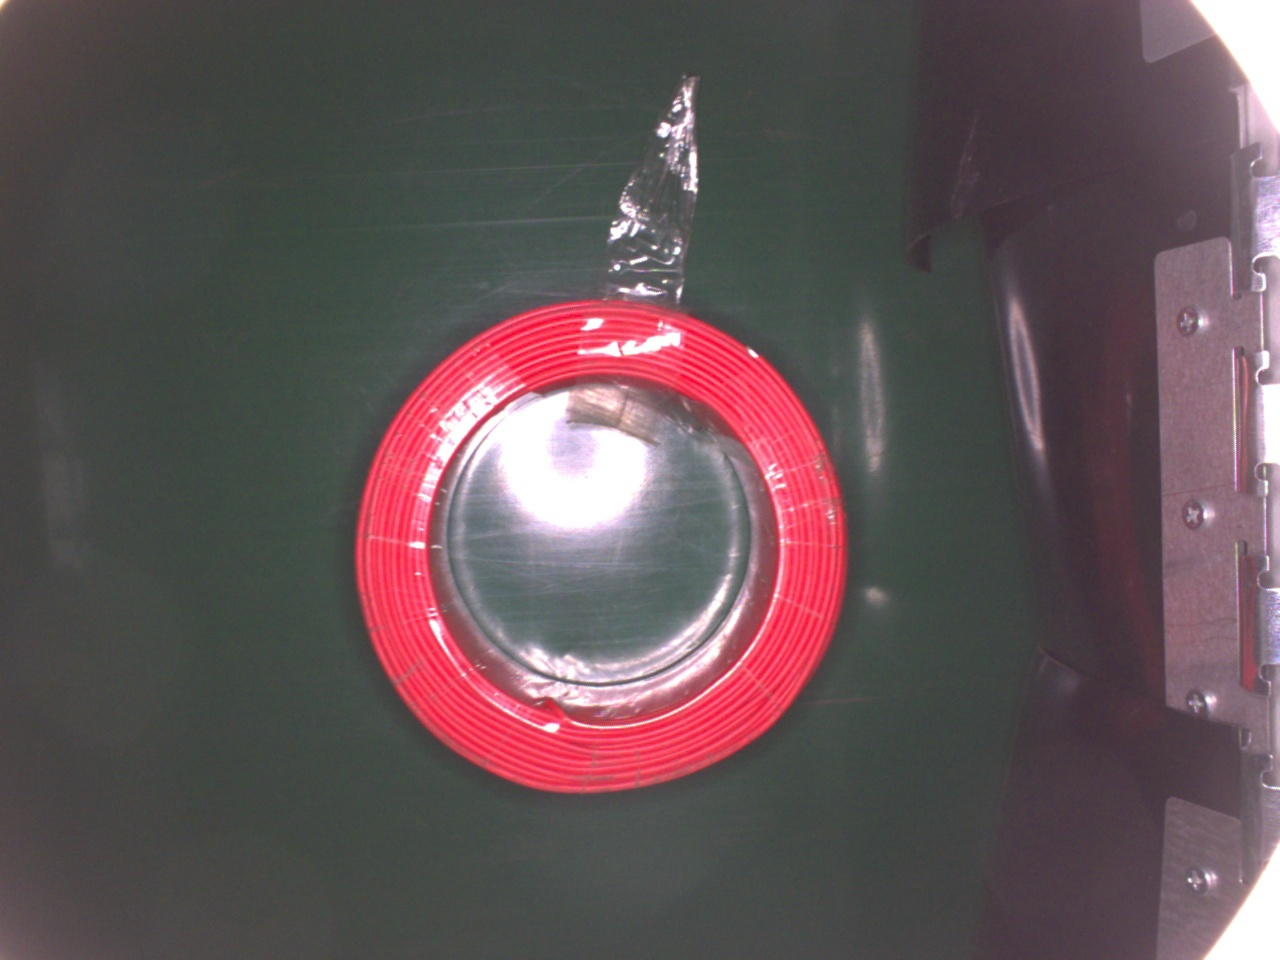red: (350, 294, 842, 789)
